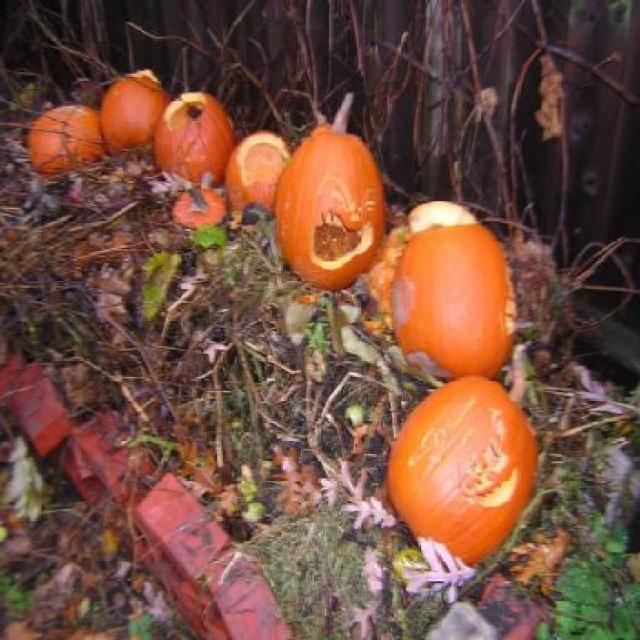Pumpkin: (388, 368, 542, 570), (386, 204, 522, 384), (270, 90, 386, 290), (153, 85, 241, 204), (218, 122, 292, 215), (97, 59, 168, 153), (31, 102, 104, 178)
